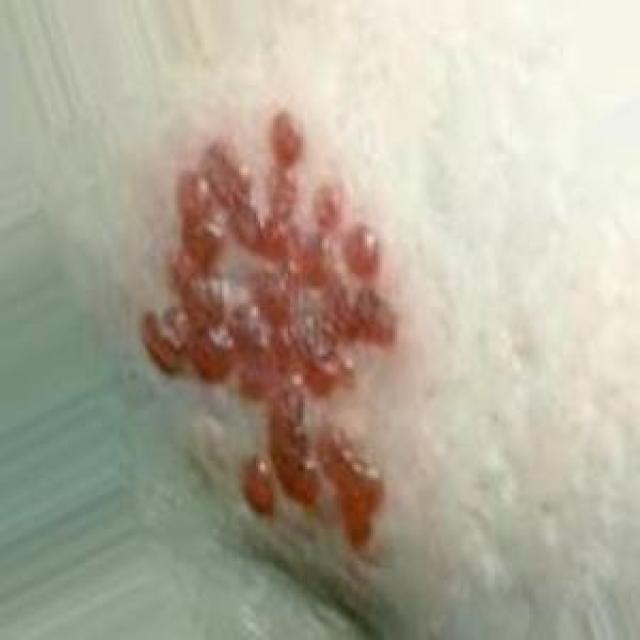Shingles: (139, 108, 401, 551)
